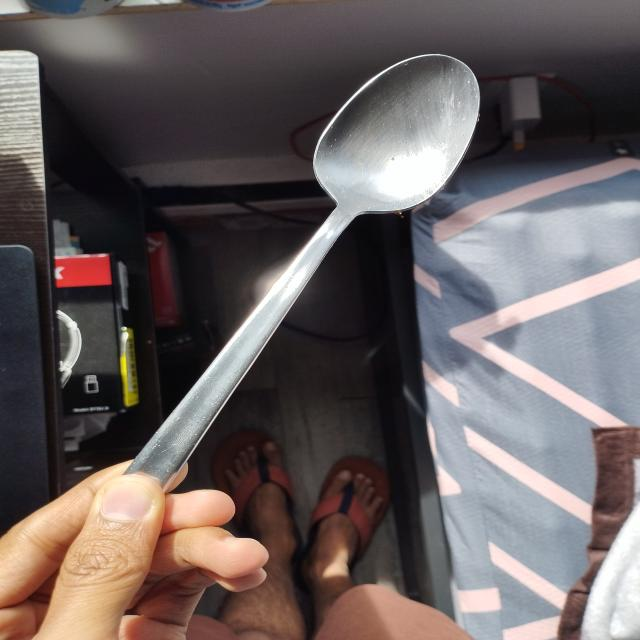Spoon: (56, 54, 505, 537)
